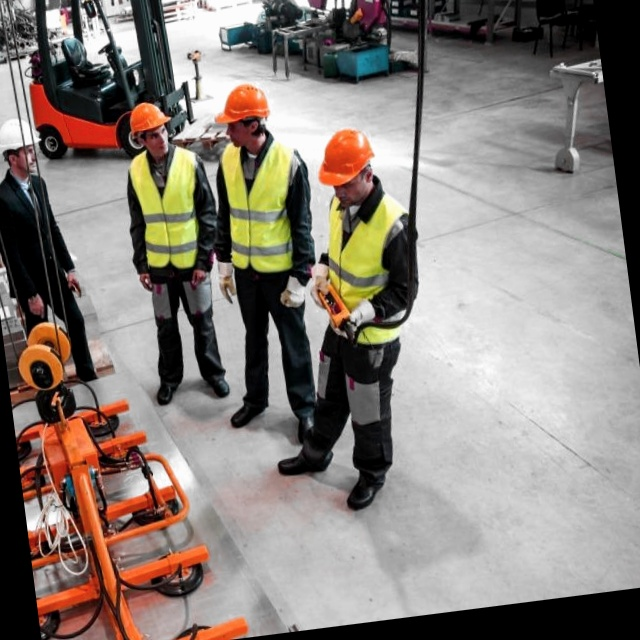Con_Chaleco: (314, 189, 429, 350), (214, 139, 315, 277), (126, 142, 210, 276)
